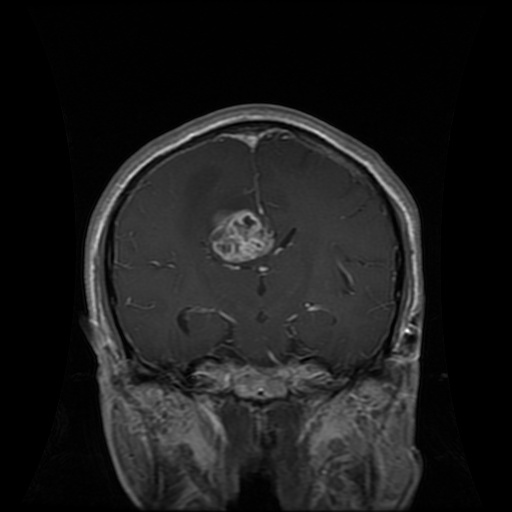glioma: (204, 198, 278, 272)
